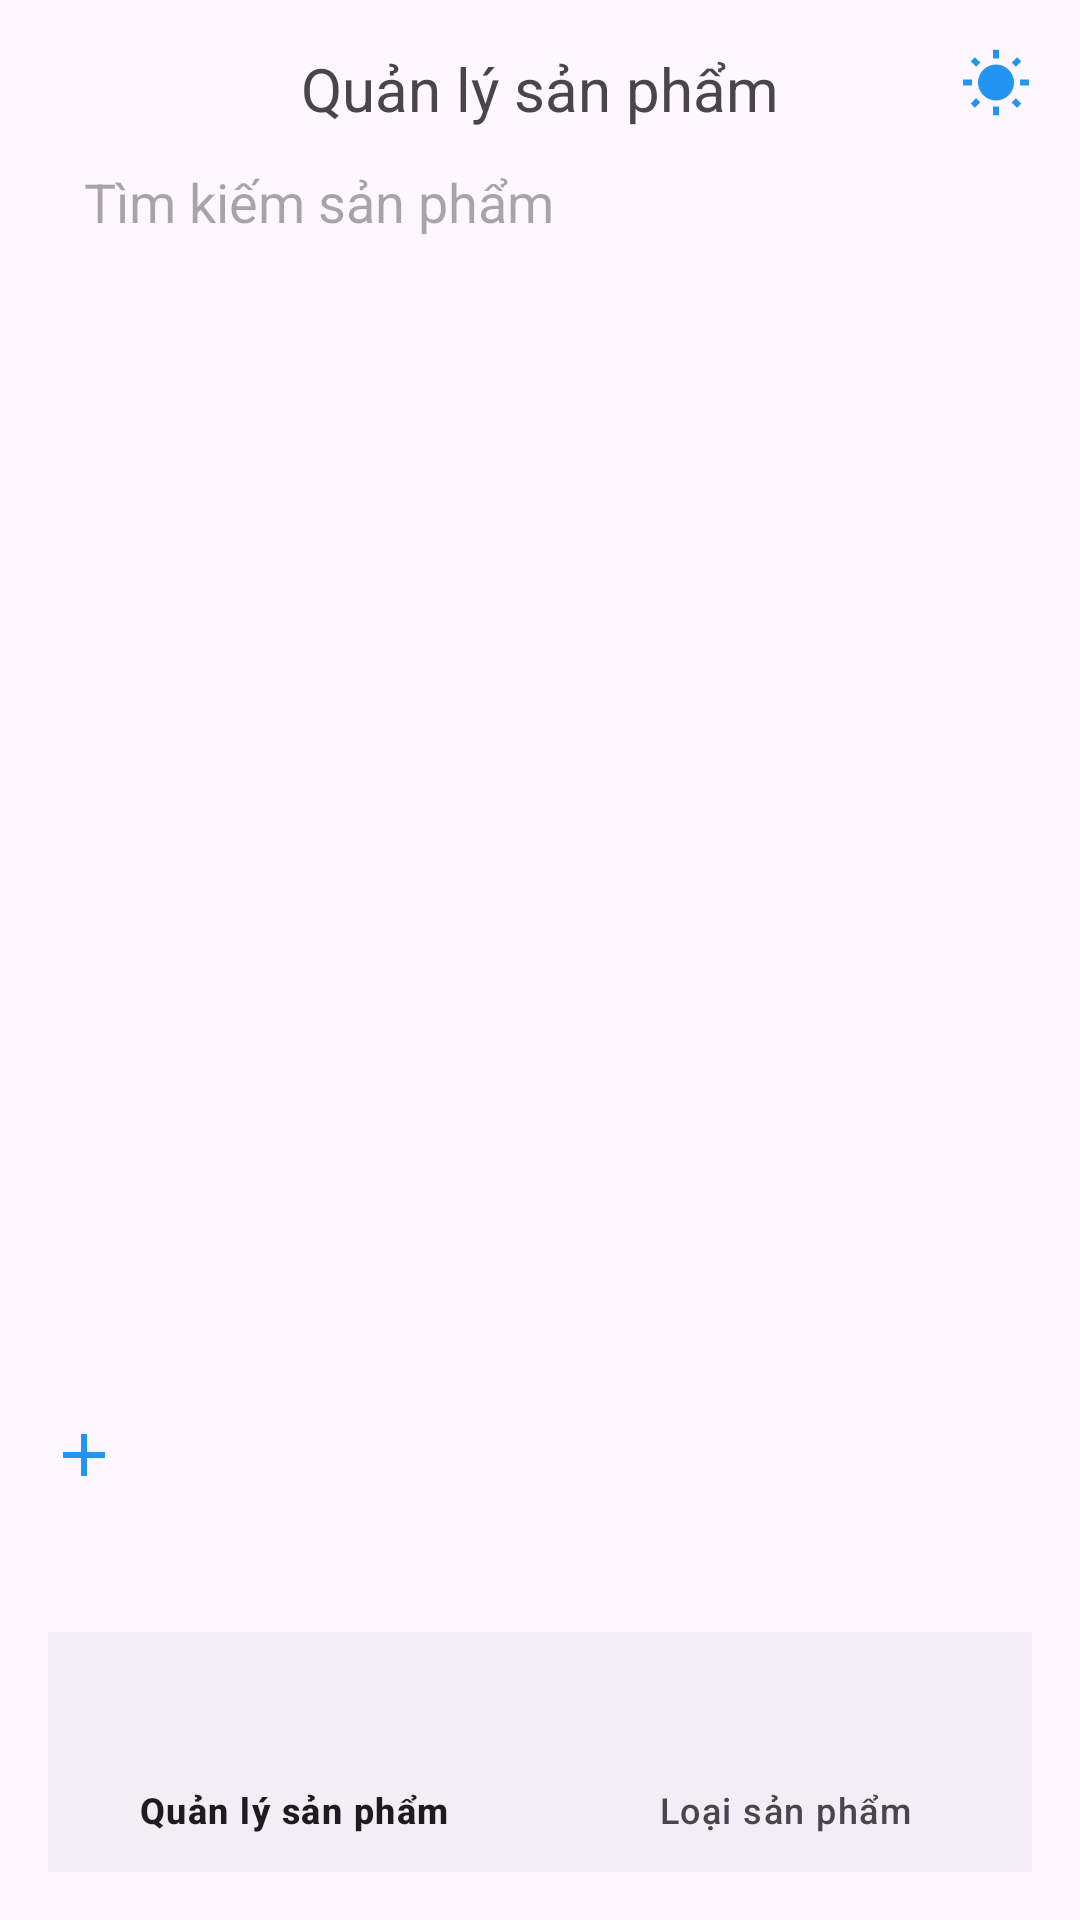

Locate icon controls on the screen. Image size 1080px×1920px, boxes as [x1=x1, y1=y1, x2=x2, y2=y2].
Chuyển đổi chế độ sáng/tối: [x1=963, y1=49, x2=1029, y2=116]
Thêm sản phẩm: [x1=63, y1=1434, x2=105, y2=1476]
